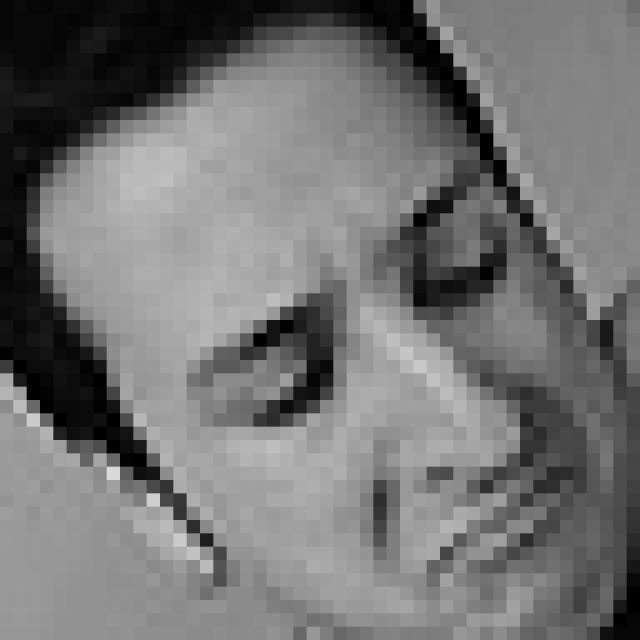disgust: (194, 158, 587, 601)
